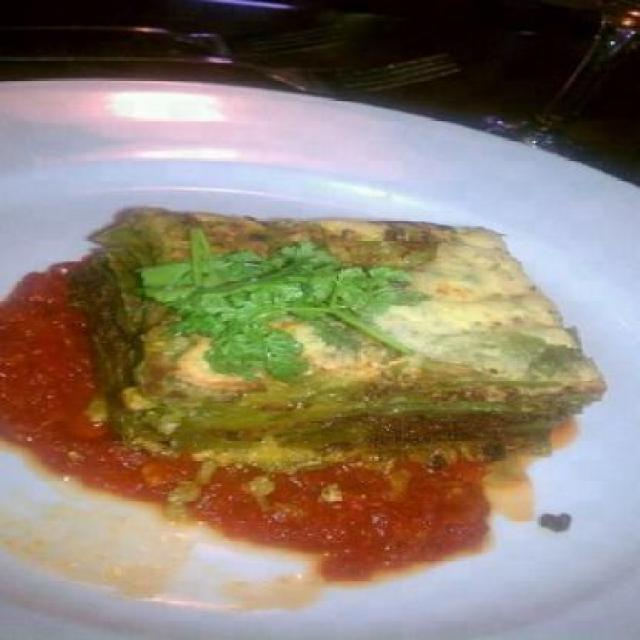Lasagna: (53, 186, 622, 532)
